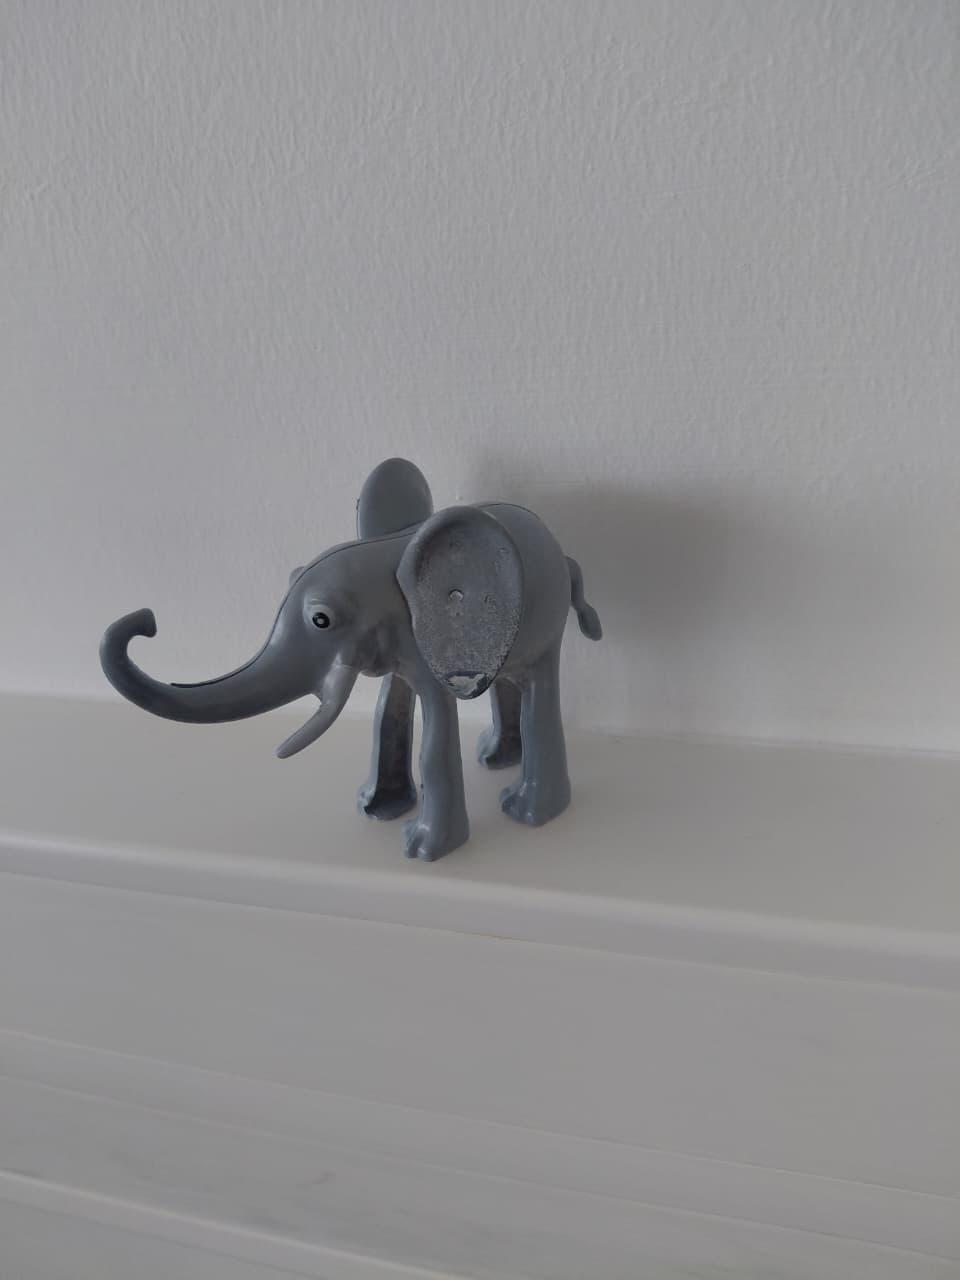elephant: (63, 425, 654, 895)
